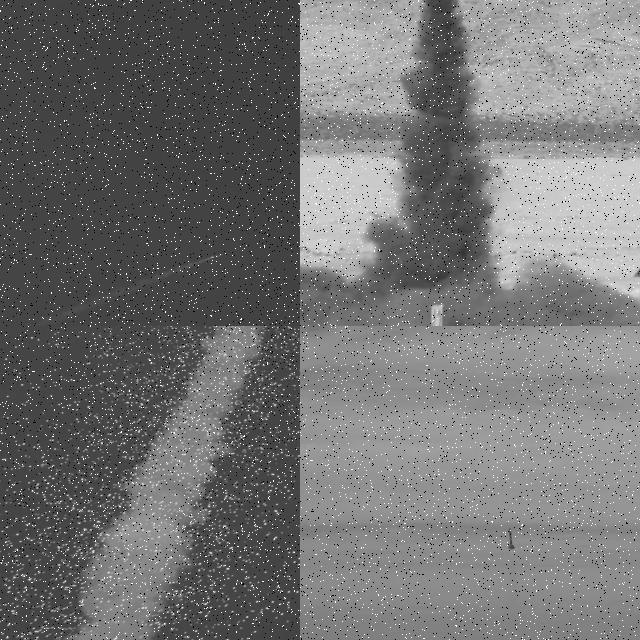Rocket: (508, 528, 515, 550), (211, 252, 224, 259)
